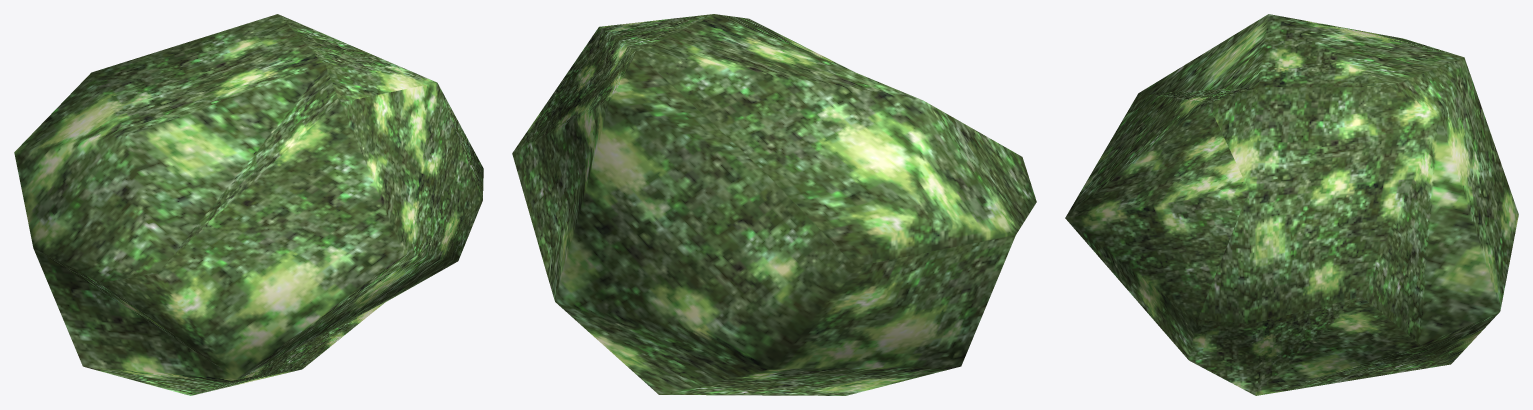
Rendered from asteroid_acid_radial_s03_l2.fbx.
3 views of the same model, side by side, from view 1: azimuth 30°, elevation 25°; view 2: azimuth 150°, elevation 25°; view 3: azimuth 270°, elevation 25° (orthographic). The views are drawn at different scales.
Visible parts, largest first — view 1: mesh_node; view 2: mesh_node; view 3: mesh_node.
Boxes of the visible parts, x1,y1,x2,y2 form: mesh_node: (14,14,483,395); mesh_node: (512,14,1036,395); mesh_node: (1065,14,1518,395).
Size of the model in its own units: 5.98 by 4.08 by 4.88.
1 material, 1 textured.
